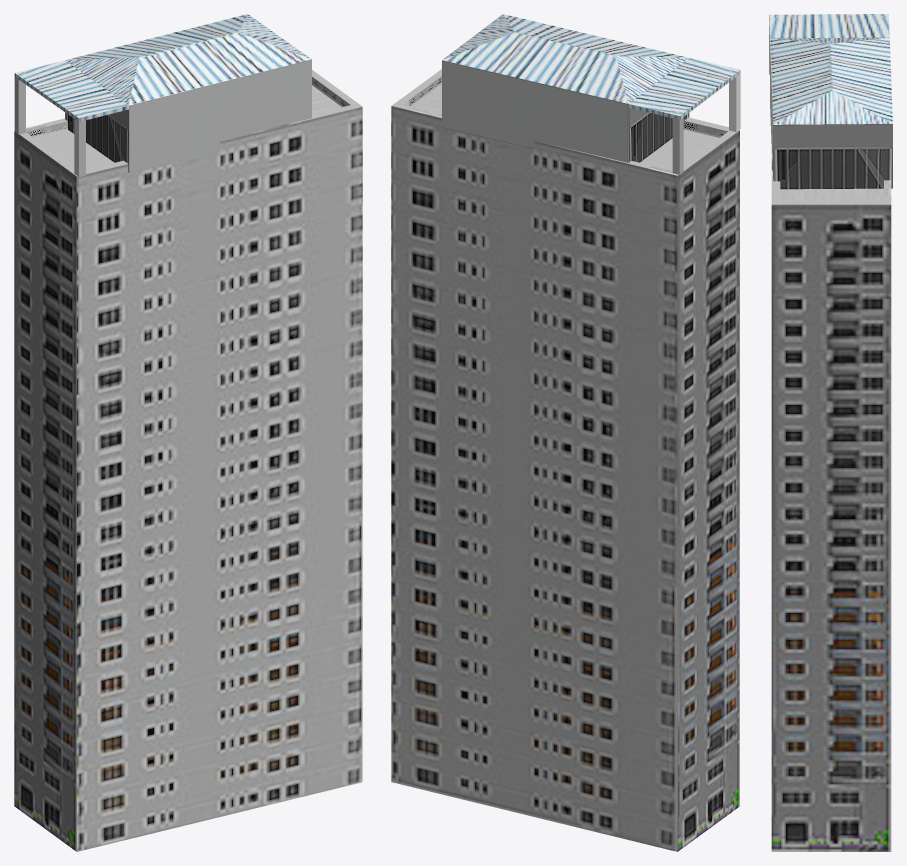
File: yocapri.fbx
3 renders of one model, left to right at view 1: azimuth 30°, elevation 25°; view 2: azimuth 150°, elevation 25°; view 3: azimuth 270°, elevation 25°, orthographic. The views are drawn at different scales.
Visible parts, largest first — view 1: Cube, Cube.001; view 2: Cube, Cube.001; view 3: Cube, Cube.001.
Boxes of the visible parts, x1,y1,x2,y2 form: Cube: [14, 70, 362, 851]; Cube.001: [14, 14, 311, 176]; Cube: [391, 69, 739, 851]; Cube.001: [442, 14, 740, 174]; Cube: [771, 71, 891, 851]; Cube.001: [769, 14, 892, 189].
Bounding box in the file's own units: 4003 × 9992 × 1563.
